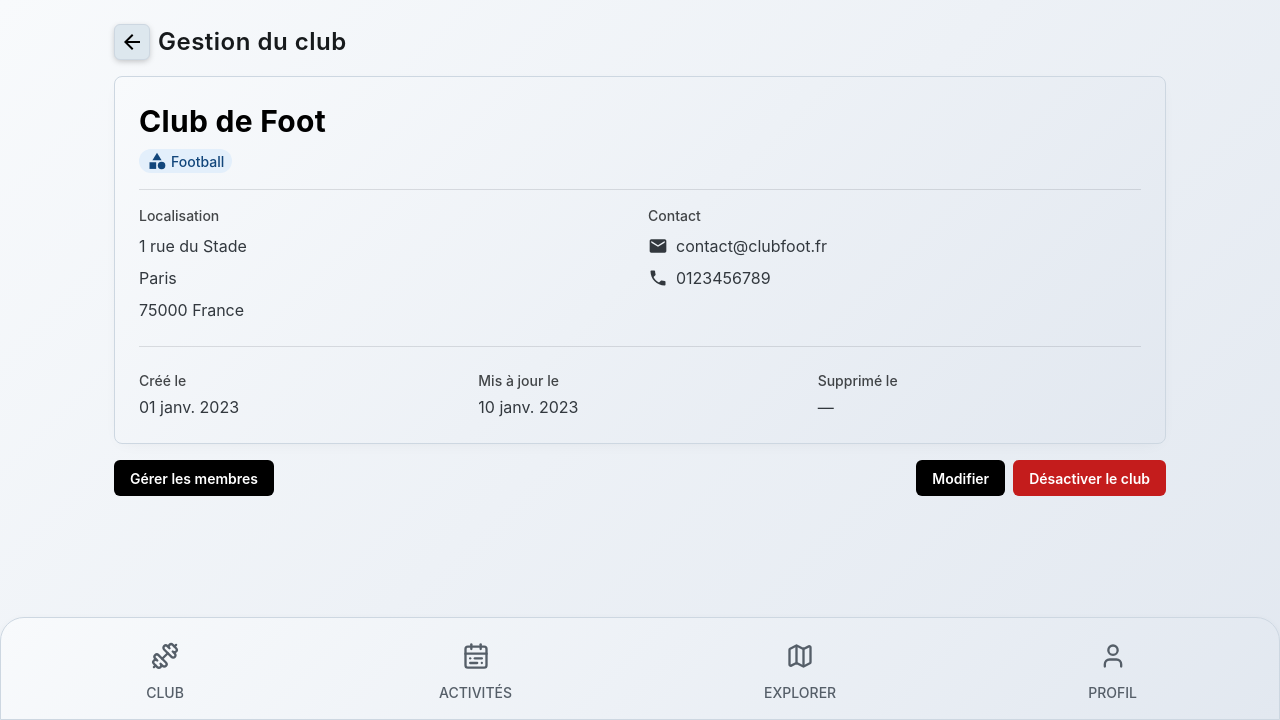
ManageClub › désactive le club
The image size is (1280, 720).
Click the button "Désactiver le club": coordinates (1090, 478) x1=1013 y1=460 x2=1166 y2=496
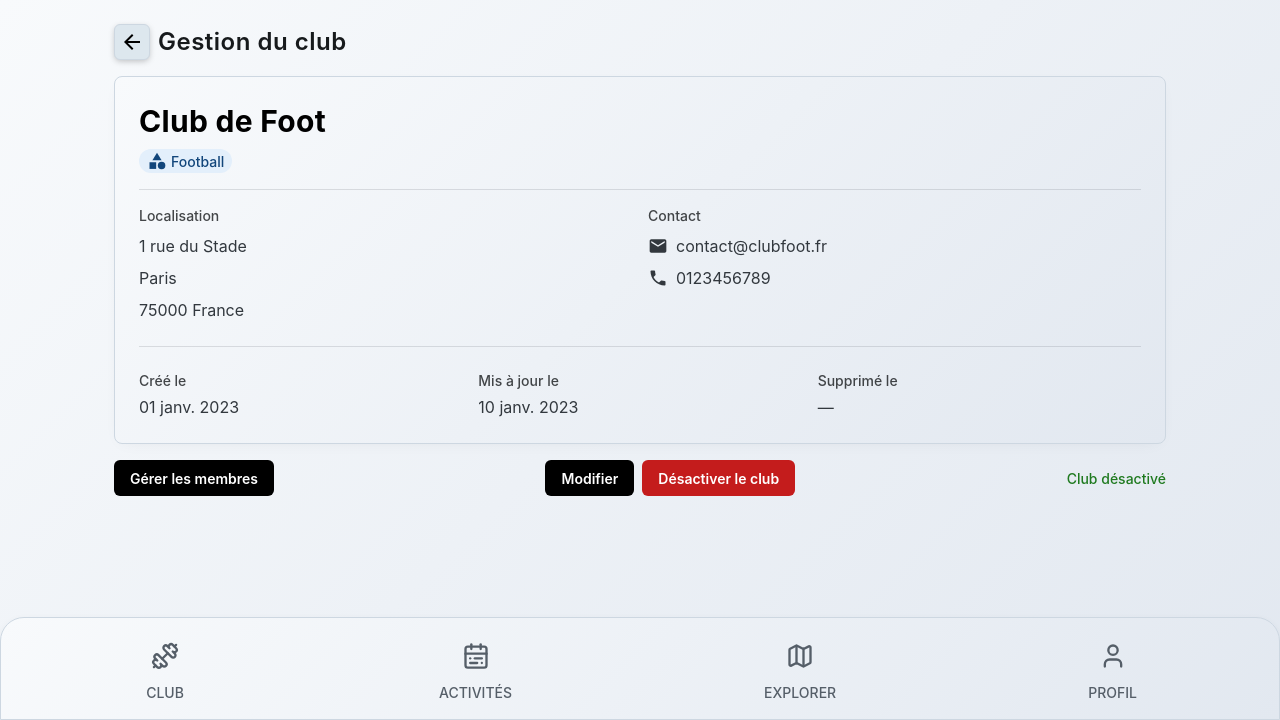
Now the text "Club désactivé" is shown, box x1=1067 y1=468 x2=1166 y2=488
